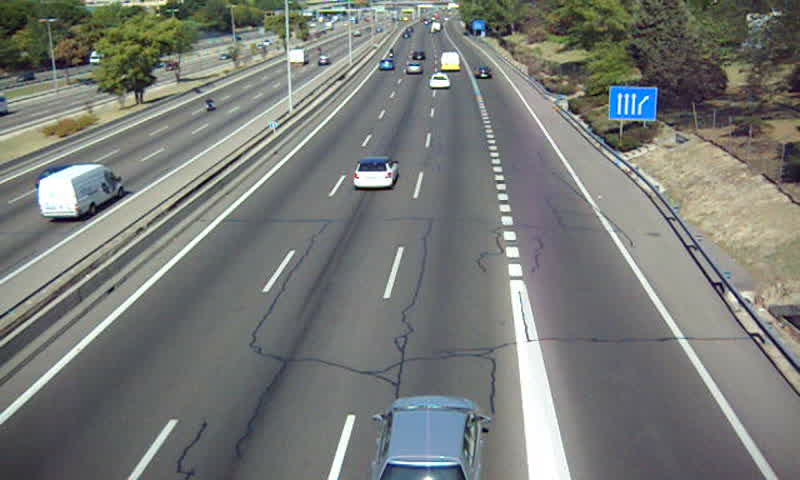car: (374, 396, 484, 480), (353, 157, 398, 188), (428, 74, 452, 89), (473, 67, 492, 80)
van: (440, 52, 460, 70)
